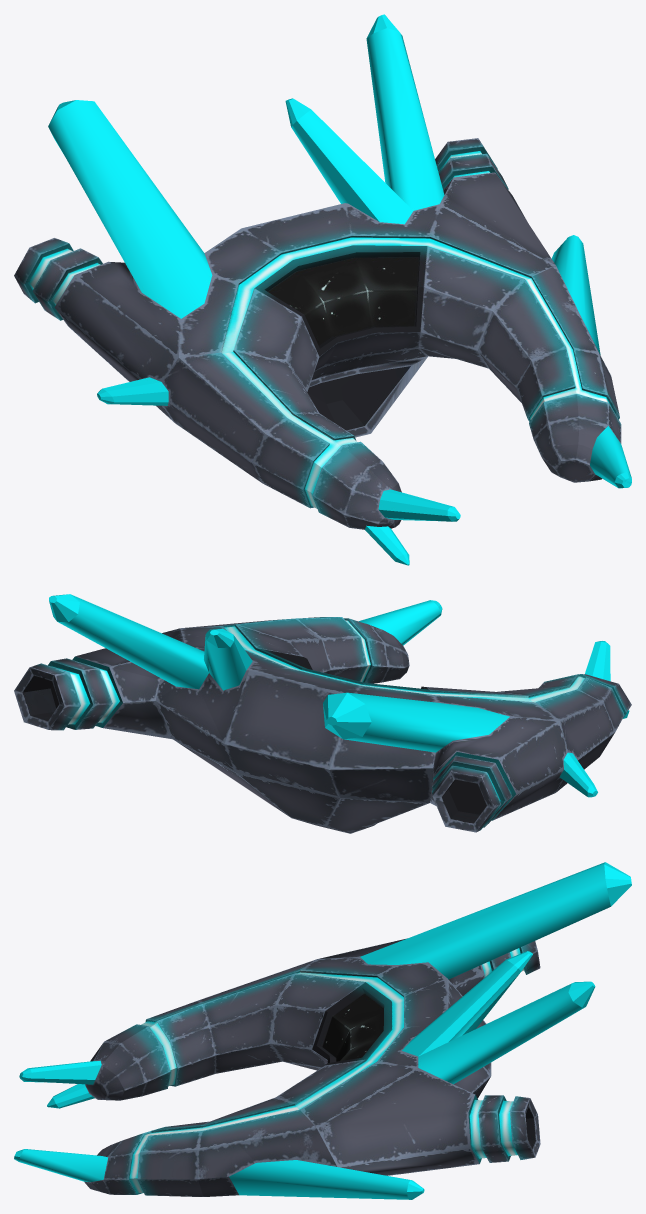
Rendered from Spaceship02.FBX.
3 views of the same model, one above another, from view 1: azimuth 30°, elevation 25°; view 2: azimuth 150°, elevation 25°; view 3: azimuth 270°, elevation 25° (orthographic). The views are drawn at different scales.
Visible parts, largest first — view 1: Spaceship; view 2: Spaceship; view 3: Spaceship.
Boxes of the visible parts, bbox=[...] form: Spaceship: bbox=[14, 14, 631, 565]; Spaceship: bbox=[14, 594, 631, 833]; Spaceship: bbox=[14, 862, 631, 1199].
Bounding box in the file's own units: 394 × 208 × 449.
